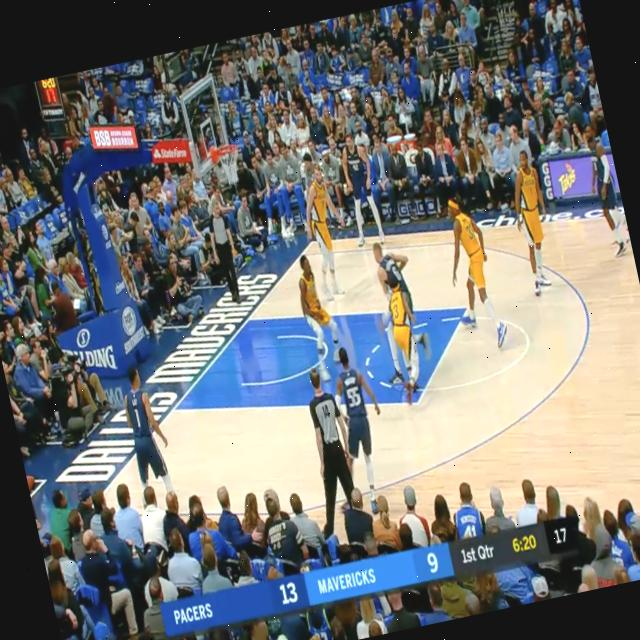no foul: (350, 233, 446, 405), (274, 162, 357, 352)
